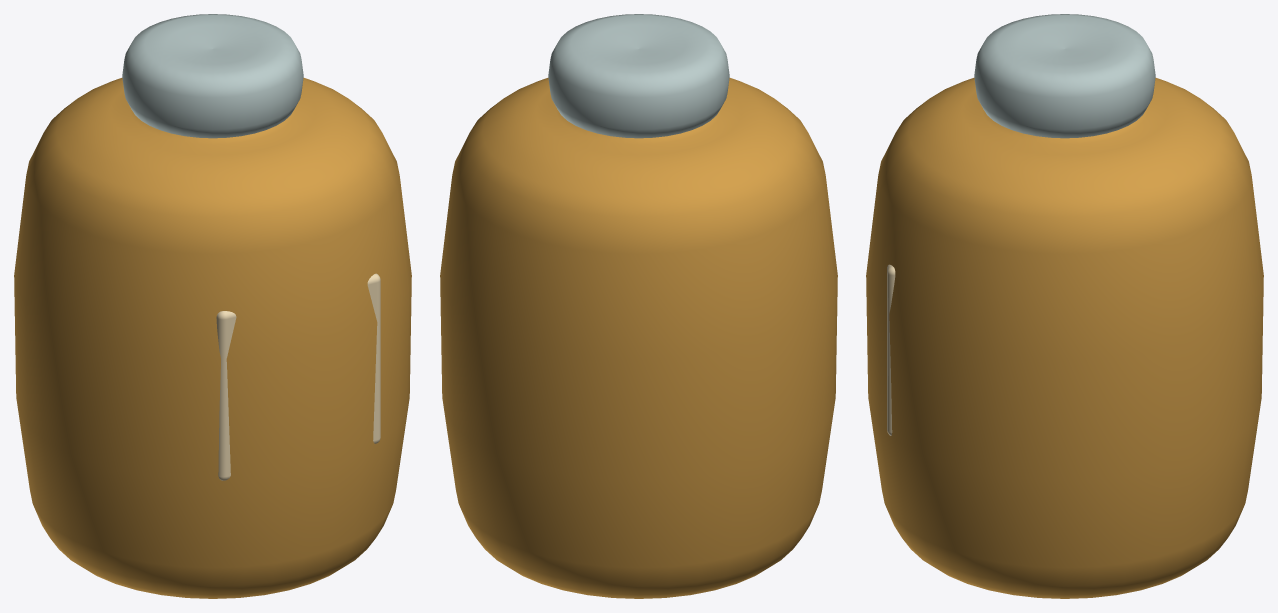
Rendered from bonus-energy-light.glb.
3 renders of one model, left to right at view 1: azimuth 30°, elevation 25°; view 2: azimuth 150°, elevation 25°; view 3: azimuth 270°, elevation 25°, orthographic.
Parts seen in each view (by area): view 1: brass, steel, cream; view 2: brass, steel; view 3: brass, steel, cream.
Boxes of the visible parts, <box> form: brass: <box>14,78,411,598</box>; steel: <box>122,14,303,138</box>; cream: <box>216,273,380,480</box>; brass: <box>440,78,837,598</box>; steel: <box>548,14,729,138</box>; brass: <box>866,78,1263,598</box>; steel: <box>974,14,1155,138</box>; cream: <box>887,264,895,435</box>.
Size of the model in its own units: 0.5293 by 0.7352 by 0.5293.
